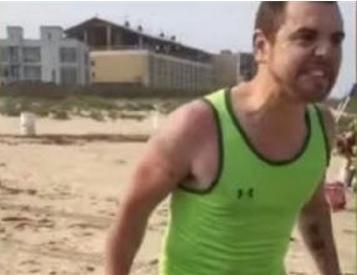Drunk: (285, 4, 343, 99)
